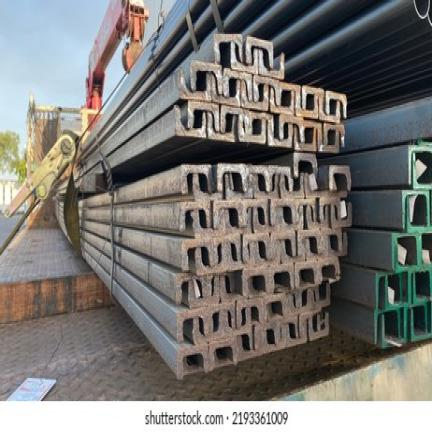besi_tidak_karat: (79, 165, 351, 376)
